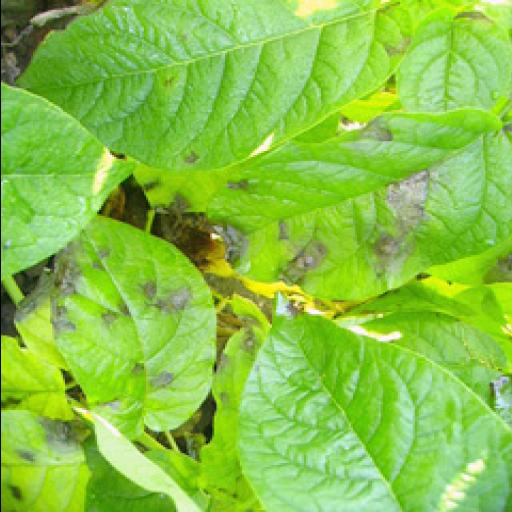Late Blight: (205, 108, 510, 308), (42, 214, 220, 444)
